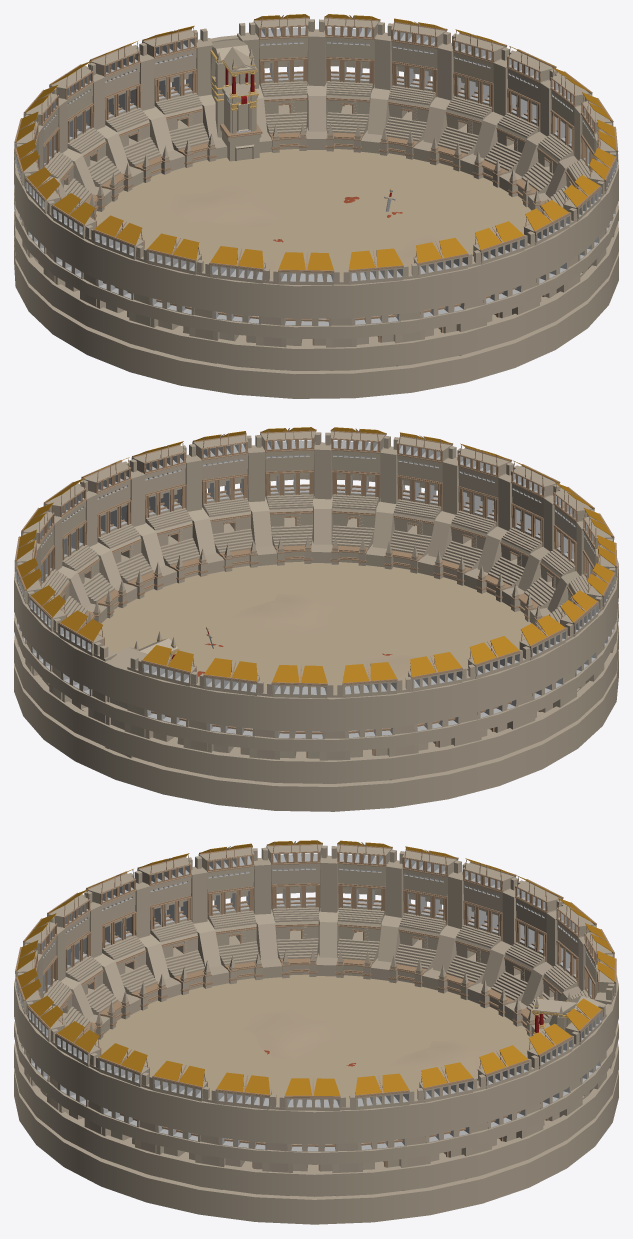
Rendered from arena_batalha.glb.
3 renders of one model, top to bottom at view 1: azimuth 30°, elevation 25°; view 2: azimuth 150°, elevation 25°; view 3: azimuth 270°, elevation 25°, orthographic.
Parts seen in each view (by area): view 1: pCube130_stone_0, pCylinder1_sand_0, pCube130_dark_0, polySurface29_yellow_0, polySurface29_lambert1_0, pCube267_gold_0; view 2: pCube130_stone_0, pCylinder1_sand_0, pCube130_dark_0, polySurface29_yellow_0, polySurface29_lambert1_0; view 3: pCube130_stone_0, pCylinder1_sand_0, pCube130_dark_0, polySurface29_yellow_0, polySurface29_lambert1_0.
Part boxes in pixels (box(x1,y1,x2,y2)): pCube130_stone_0: box(14, 17, 618, 398); pCylinder1_sand_0: box(96, 149, 531, 274); pCube130_dark_0: box(14, 15, 618, 345); polySurface29_yellow_0: box(16, 14, 616, 270); polySurface29_lambert1_0: box(15, 27, 616, 325); pCube267_gold_0: box(210, 50, 393, 199); pCube130_stone_0: box(14, 431, 618, 811); pCylinder1_sand_0: box(98, 561, 531, 687); pCube130_dark_0: box(14, 428, 617, 758); polySurface29_yellow_0: box(16, 427, 615, 683); polySurface29_lambert1_0: box(16, 440, 615, 738); pCube130_stone_0: box(14, 844, 618, 1224); pCylinder1_sand_0: box(95, 974, 533, 1100); pCube130_dark_0: box(15, 841, 616, 1170); polySurface29_yellow_0: box(16, 840, 614, 1095); polySurface29_lambert1_0: box(16, 853, 602, 1151).
Bounding box in the file's own units: 42.79 × 10.72 × 42.79.
